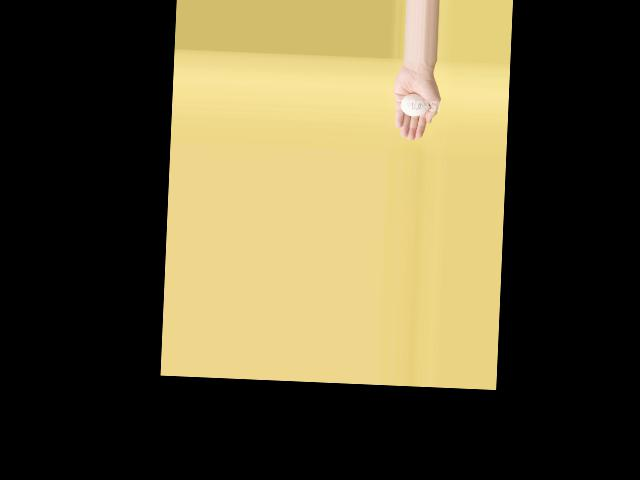egg: (400, 93, 429, 116)
